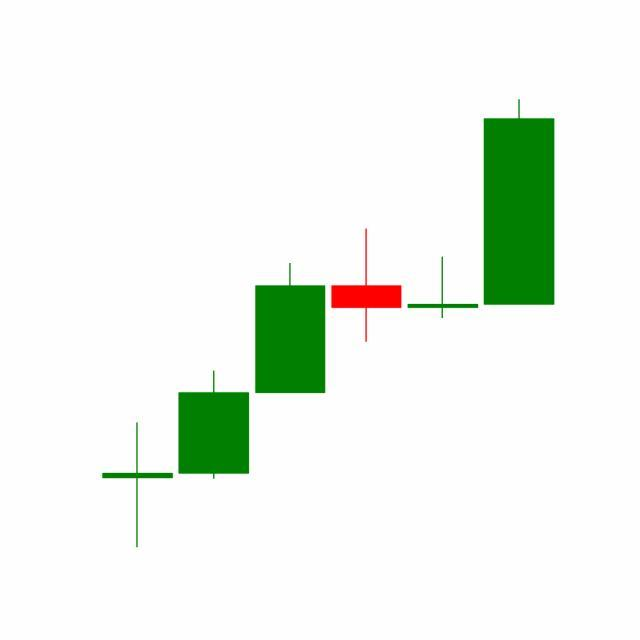Gravestone Doji: (404, 257, 482, 321)
